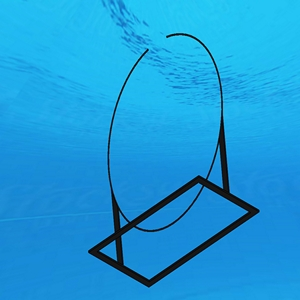circle: (87, 32, 266, 289)
